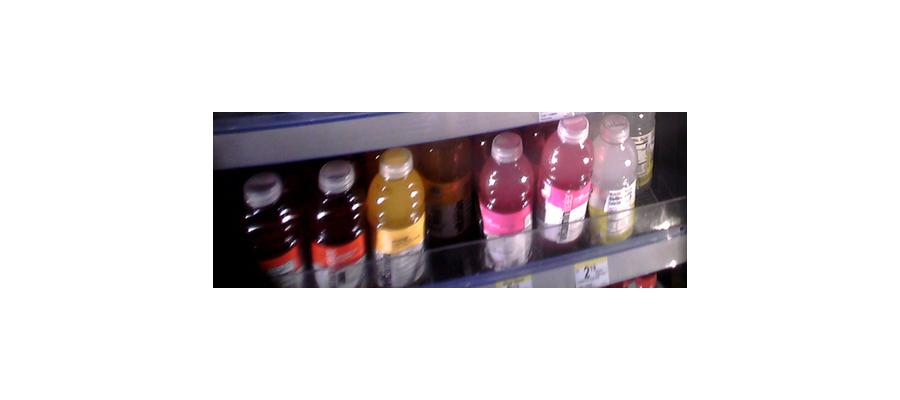bottle: (367, 147, 427, 287), (537, 114, 592, 254), (307, 161, 365, 290), (481, 134, 535, 272), (240, 167, 299, 287), (419, 136, 478, 240), (592, 115, 638, 247)
